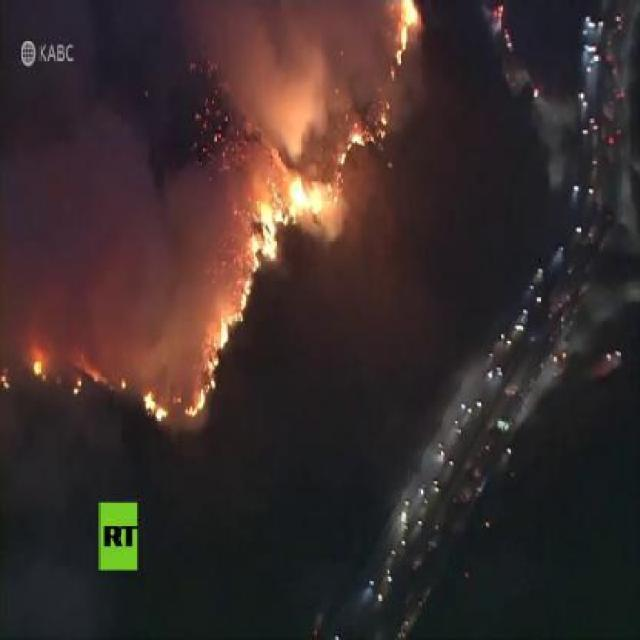Fire: (276, 176, 336, 222), (250, 198, 278, 272), (204, 319, 228, 398), (394, 1, 418, 64), (338, 130, 373, 164), (233, 281, 252, 324), (144, 393, 167, 421), (183, 389, 204, 418), (32, 359, 42, 376)
